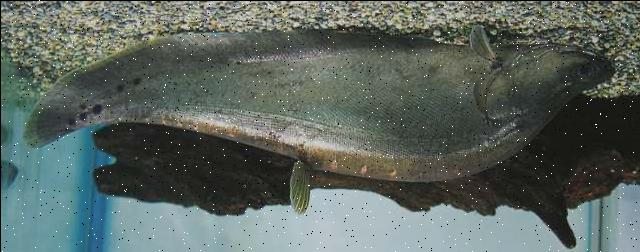Mulut: (554, 42, 622, 85)
Sirip Dada: (460, 15, 504, 73)
Sirip Punggung: (278, 149, 318, 219)
